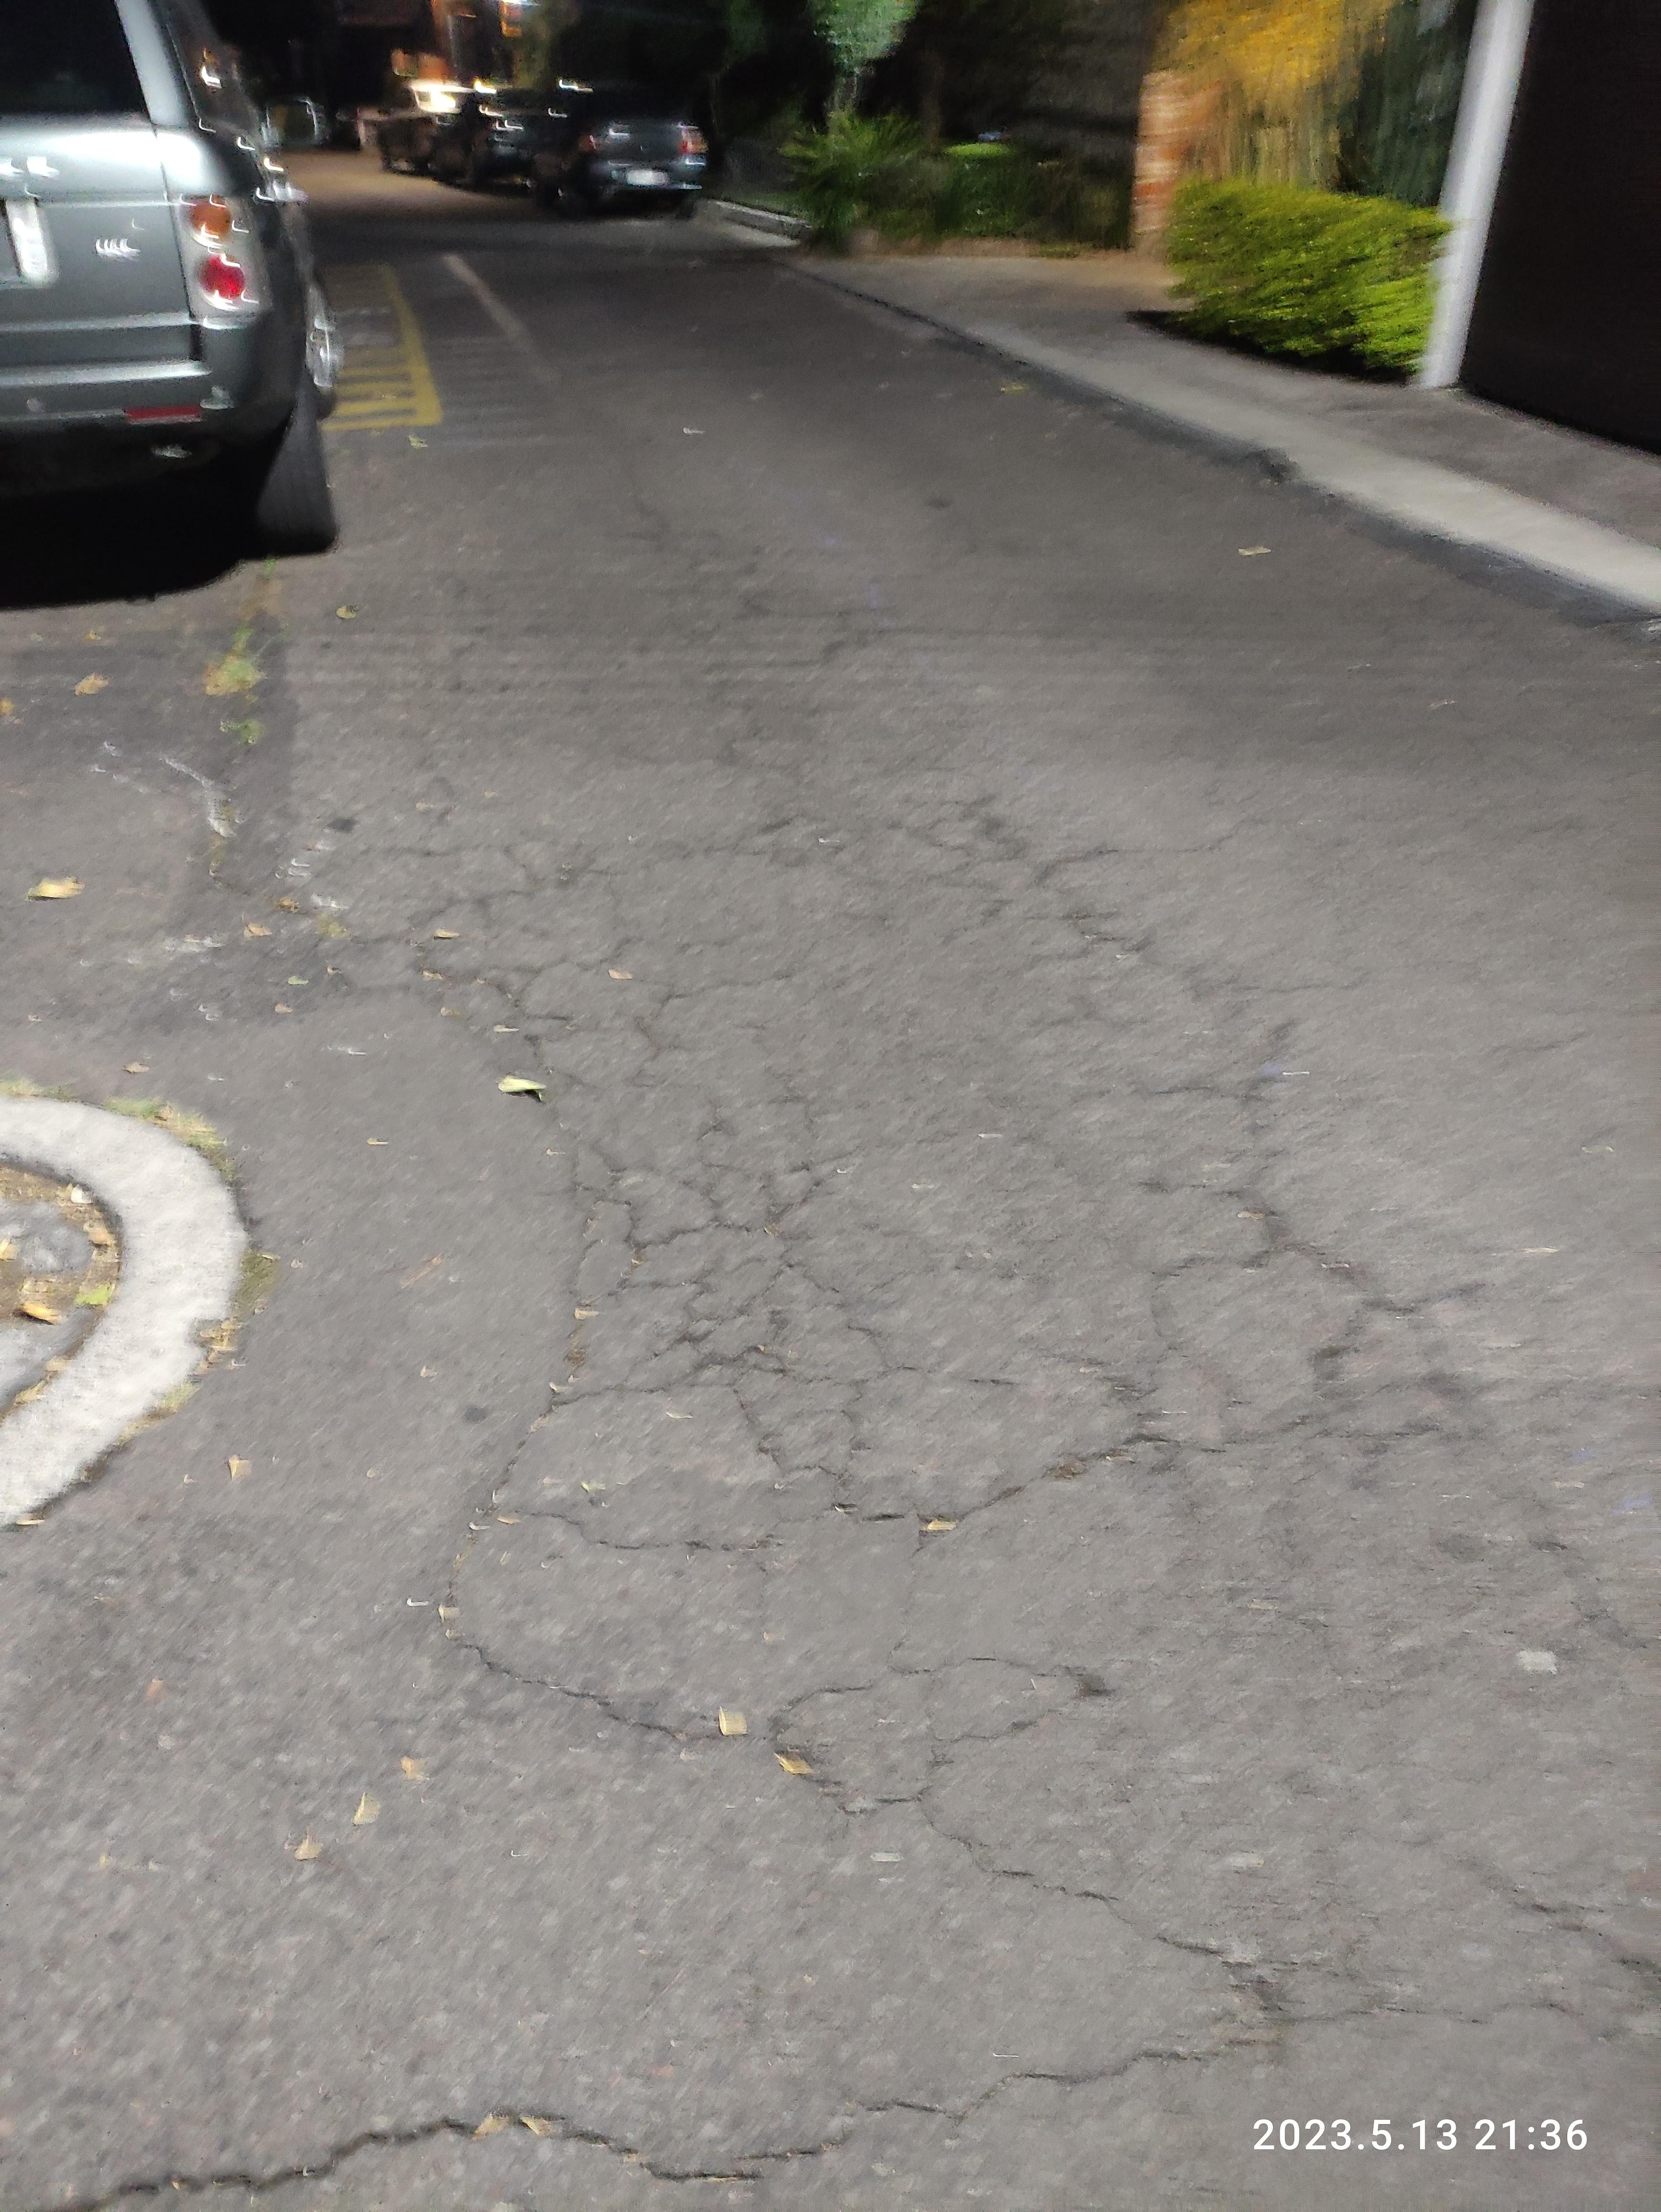alligator-crack: (333, 776, 1485, 1877)
crack: (5, 2062, 1063, 2212)
